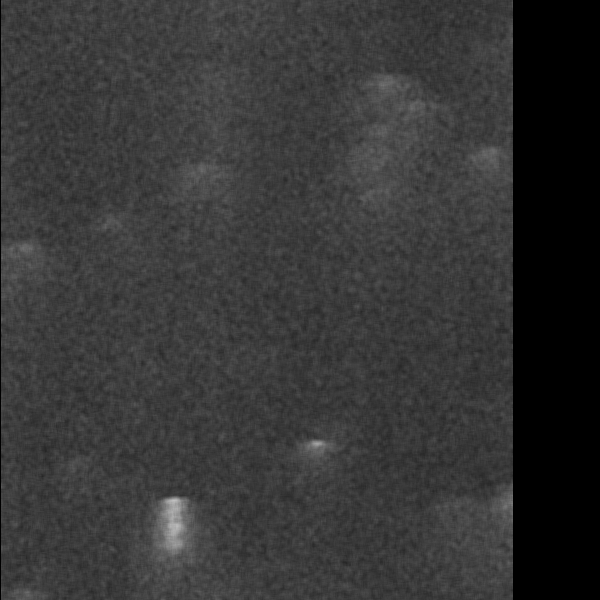spark: (3, 520, 66, 590), (457, 252, 506, 311), (469, 324, 512, 351)
